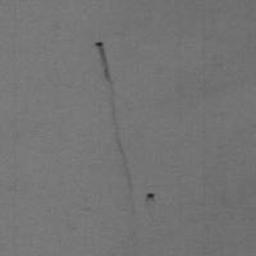Inclusion: (93, 40, 134, 184), (145, 192, 157, 201)
